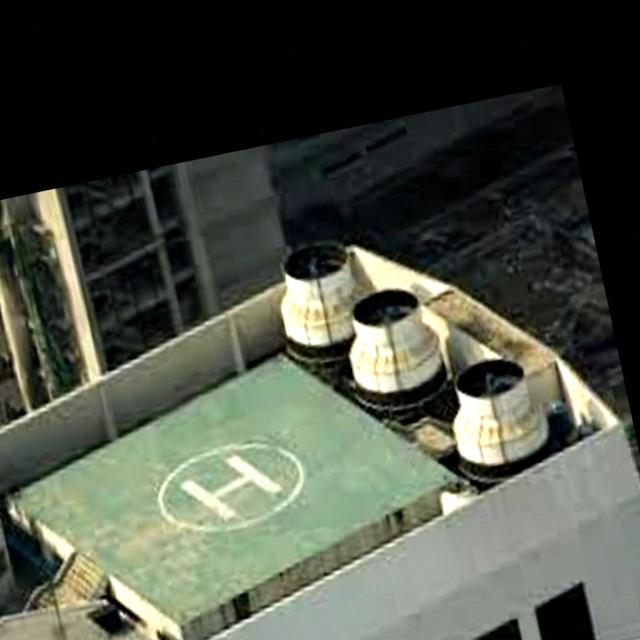helipad: (153, 440, 306, 536)
